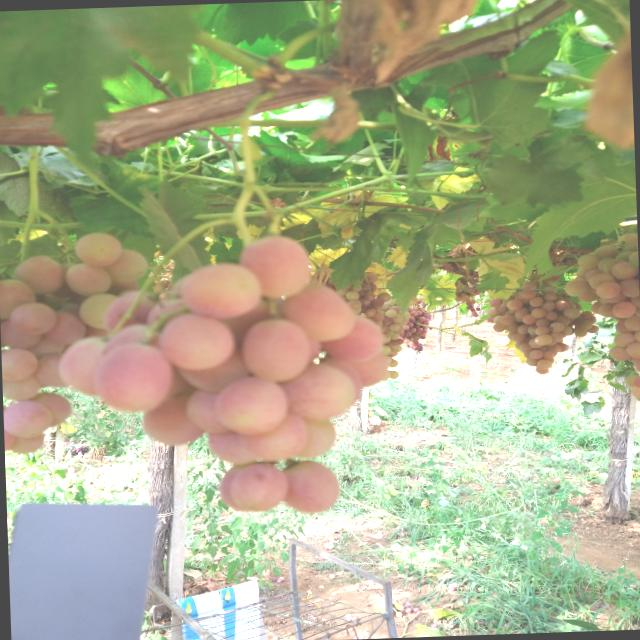grapes: (93, 341, 175, 416), (175, 262, 262, 318), (238, 318, 310, 383), (278, 284, 358, 342), (280, 362, 356, 423), (158, 313, 235, 372), (238, 233, 310, 296), (214, 378, 288, 437), (60, 334, 126, 398), (230, 408, 308, 460), (174, 343, 252, 392), (274, 459, 342, 515), (140, 392, 208, 448), (106, 288, 166, 343), (318, 314, 385, 361), (316, 347, 390, 389), (218, 301, 274, 355), (232, 462, 292, 512), (102, 322, 162, 370), (279, 412, 338, 459), (218, 462, 270, 513), (185, 385, 238, 434), (208, 424, 265, 464), (12, 254, 66, 296), (144, 296, 196, 334), (3, 399, 54, 436), (78, 291, 126, 330), (73, 230, 122, 267), (24, 392, 74, 427), (9, 300, 57, 336), (41, 308, 86, 346), (36, 351, 82, 388), (65, 260, 112, 296), (106, 248, 150, 284), (0, 278, 38, 319), (4, 421, 46, 454), (0, 316, 42, 348), (1, 348, 38, 379), (2, 373, 42, 399), (24, 330, 64, 354), (0, 315, 19, 346), (611, 262, 639, 278), (588, 272, 616, 288), (618, 278, 640, 298), (564, 278, 588, 296), (608, 344, 632, 362), (595, 282, 621, 298), (612, 301, 636, 318), (576, 284, 598, 302), (615, 318, 638, 335), (4, 424, 16, 456), (598, 302, 622, 318), (613, 332, 637, 348), (595, 244, 621, 258), (576, 254, 600, 269), (616, 231, 638, 246), (614, 252, 638, 264), (604, 259, 626, 272), (623, 313, 640, 329), (598, 258, 617, 272), (576, 265, 596, 278), (584, 268, 602, 282), (590, 298, 608, 312), (603, 292, 628, 302), (466, 280, 481, 296), (626, 342, 640, 358), (563, 307, 581, 319), (552, 314, 570, 326), (625, 373, 640, 386), (554, 300, 570, 312), (522, 312, 538, 324), (507, 298, 523, 310), (576, 319, 593, 330), (519, 342, 536, 353), (526, 272, 544, 282), (515, 306, 530, 318), (620, 243, 638, 253), (369, 296, 385, 307), (536, 358, 552, 369), (521, 282, 538, 292), (628, 249, 638, 266), (376, 290, 390, 302), (529, 296, 543, 308), (500, 314, 514, 326), (362, 272, 378, 282), (344, 290, 360, 300), (520, 288, 536, 298), (540, 286, 556, 296), (528, 349, 544, 359), (535, 325, 551, 335), (550, 321, 564, 332), (511, 331, 525, 342), (527, 324, 541, 335), (540, 300, 555, 310), (531, 308, 546, 318), (528, 338, 543, 348), (630, 384, 640, 399), (346, 300, 362, 309), (517, 323, 530, 334), (493, 321, 506, 332), (335, 286, 349, 296), (348, 282, 362, 292), (572, 316, 586, 326), (549, 332, 563, 342), (538, 334, 552, 344), (544, 336, 558, 346), (554, 342, 568, 352), (526, 356, 540, 366), (506, 330, 520, 340), (504, 322, 518, 332), (492, 314, 506, 324), (630, 294, 640, 308), (533, 278, 550, 286), (542, 293, 557, 302), (487, 307, 502, 316), (388, 369, 400, 380), (534, 335, 546, 346), (362, 291, 375, 301), (372, 310, 385, 320), (586, 324, 599, 334), (515, 340, 528, 350), (348, 305, 362, 314), (364, 282, 378, 291), (580, 310, 594, 319), (574, 328, 588, 337), (547, 343, 561, 352), (495, 306, 509, 315), (629, 356, 640, 367), (364, 306, 376, 316), (514, 312, 526, 322), (486, 316, 501, 324), (545, 311, 558, 320), (540, 356, 554, 364), (536, 366, 550, 374), (536, 344, 550, 352), (536, 318, 550, 326), (388, 358, 399, 368), (380, 332, 390, 343), (392, 314, 403, 324), (548, 272, 560, 281), (518, 294, 530, 303), (633, 328, 640, 343), (383, 298, 396, 306), (583, 316, 596, 324), (354, 287, 364, 297), (572, 301, 582, 311), (358, 282, 369, 291), (561, 326, 572, 335), (498, 303, 509, 312), (378, 304, 390, 312), (558, 290, 570, 298), (388, 323, 401, 330), (509, 291, 522, 298), (380, 344, 390, 353), (554, 294, 564, 303), (382, 368, 390, 379), (393, 326, 404, 334), (381, 316, 392, 324), (543, 351, 555, 358), (524, 352, 538, 358), (390, 332, 400, 340), (362, 298, 372, 306), (386, 309, 396, 317), (566, 301, 576, 309), (490, 298, 500, 306), (552, 336, 563, 343), (634, 305, 640, 317), (380, 375, 390, 382), (392, 345, 402, 352), (388, 341, 398, 348), (392, 338, 402, 345), (414, 327, 424, 334), (505, 310, 515, 317), (390, 306, 401, 312), (318, 554, 326, 562), (384, 329, 394, 335), (570, 325, 576, 335), (548, 350, 558, 356), (389, 349, 397, 356), (381, 324, 388, 332), (448, 584, 456, 591), (633, 377, 640, 385), (394, 611, 403, 617), (404, 321, 413, 327), (412, 340, 420, 346), (420, 328, 428, 334), (408, 327, 416, 333), (408, 318, 416, 324), (418, 316, 426, 322), (422, 312, 430, 318), (635, 395, 640, 404), (636, 364, 640, 375), (385, 348, 392, 354), (413, 608, 420, 614), (419, 578, 426, 584), (402, 324, 409, 330), (403, 326, 410, 332), (410, 310, 417, 316), (466, 305, 474, 310), (464, 300, 472, 305), (416, 296, 424, 301), (470, 298, 476, 304), (408, 340, 414, 346), (409, 332, 415, 338), (414, 332, 420, 338), (408, 316, 414, 322), (422, 324, 428, 330), (278, 576, 285, 581), (416, 346, 423, 351), (403, 338, 410, 343), (419, 334, 426, 339), (415, 319, 422, 324), (414, 323, 421, 328), (399, 608, 407, 612), (328, 574, 336, 578), (416, 342, 424, 346), (409, 306, 417, 310), (352, 616, 358, 621), (347, 616, 352, 622), (276, 579, 282, 584), (452, 581, 458, 586), (416, 298, 422, 303), (412, 345, 418, 350), (398, 331, 404, 336), (417, 310, 422, 316), (463, 298, 470, 302), (404, 332, 411, 336), (419, 332, 426, 336), (573, 324, 580, 328), (412, 300, 417, 305), (405, 608, 411, 612), (345, 613, 351, 617), (471, 312, 477, 316), (414, 306, 420, 310), (414, 316, 420, 320), (422, 318, 428, 322), (426, 312, 432, 316), (475, 306, 480, 310), (470, 308, 475, 312), (418, 344, 423, 348), (408, 306, 413, 310), (424, 318, 429, 322), (426, 315, 431, 319), (412, 338, 418, 341), (406, 318, 410, 322), (410, 345, 415, 348), (414, 336, 419, 339), (424, 322, 429, 325), (405, 604, 411, 606), (474, 314, 478, 317), (428, 326, 432, 329), (402, 336, 407, 338), (422, 310, 426, 312)
